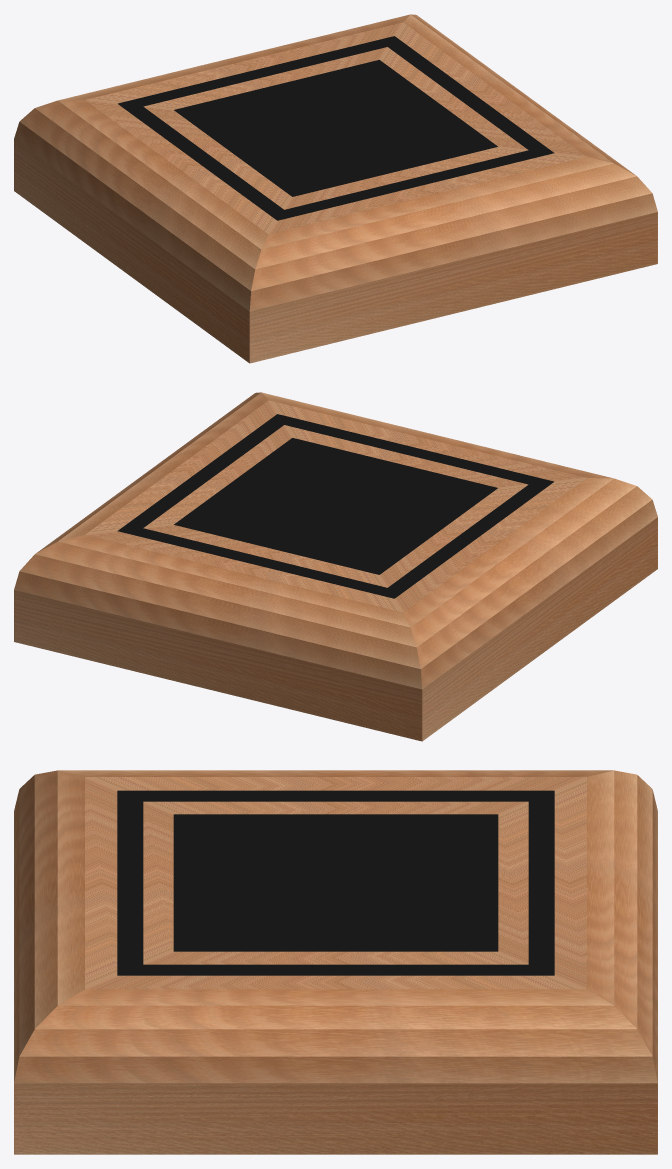
The model's file is BossLightPiece.fbx.
3 renders of one model, top to bottom at view 1: azimuth 30°, elevation 25°; view 2: azimuth 150°, elevation 25°; view 3: azimuth 270°, elevation 25°, orthographic. The views are drawn at different scales.
Parts seen in each view (by area): view 1: BossLightPiece; view 2: BossLightPiece; view 3: BossLightPiece.
Boxes of the visible parts, bbox=[...] form: BossLightPiece: bbox=[14, 14, 657, 363]; BossLightPiece: bbox=[14, 392, 657, 741]; BossLightPiece: bbox=[14, 770, 657, 1154].
Bounding box in the file's own units: 200 × 46.39 × 200.
